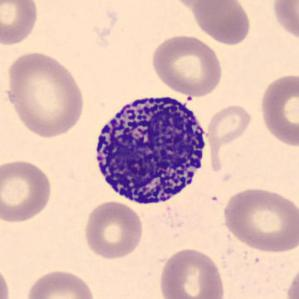Basophil: (87, 86, 214, 211)
RBC: (4, 49, 89, 139), (220, 184, 298, 254), (149, 32, 225, 98), (82, 200, 146, 260), (157, 245, 227, 299), (0, 156, 54, 225), (204, 102, 255, 168), (257, 71, 298, 149), (190, 0, 253, 46), (24, 267, 97, 299), (0, 0, 41, 48), (270, 0, 299, 43), (166, 0, 233, 10), (285, 262, 299, 299), (0, 261, 12, 299)
